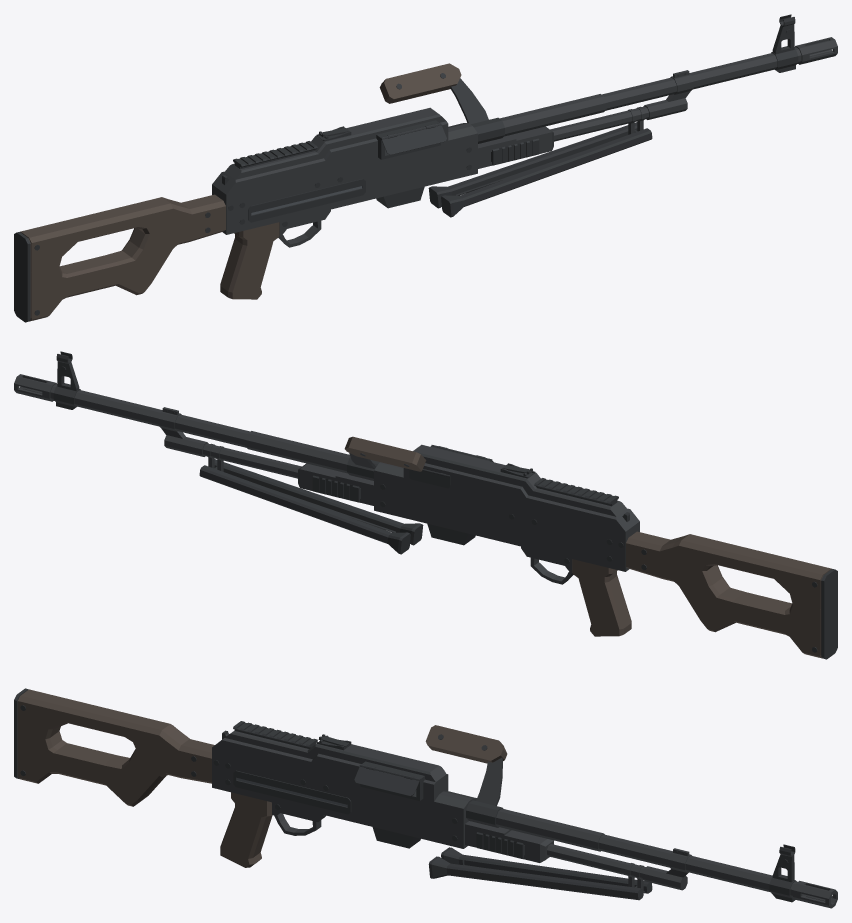
Rendered from LMG3_04.fbx.
3 views of the same model, one above another, from view 1: azimuth 30°, elevation 25°; view 2: azimuth 150°, elevation 25°; view 3: azimuth 330°, elevation 25° (orthographic).
Visible parts, largest first — view 1: LMG3_04; view 2: LMG3_04; view 3: LMG3_04.
Part boxes in pixels (x1,y1,x2,y2): LMG3_04: (14,14,837,322); LMG3_04: (14,351,837,659); LMG3_04: (14,688,837,908).
Size of the model in its own units: 1.31 by 0.2463 by 0.1301.
